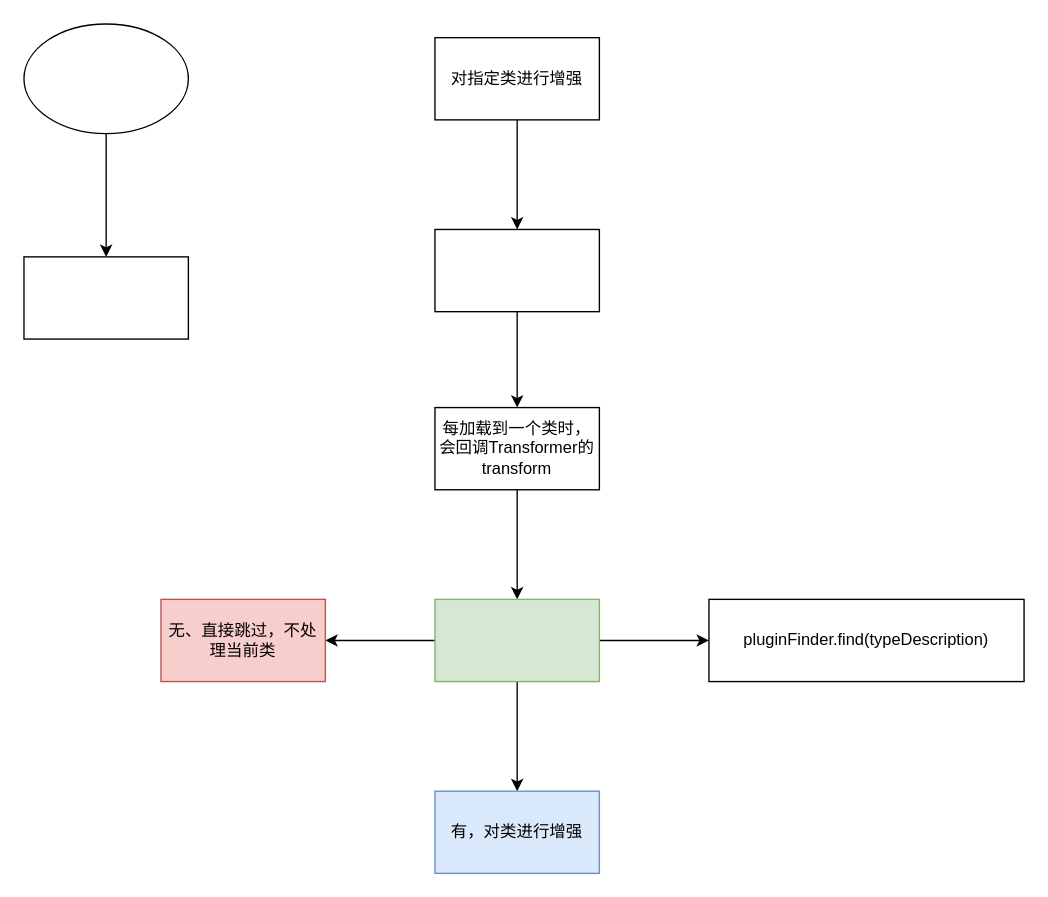
This 1048x897 diagram has some shape labels left out. Here are the shapes that lost their labels. From the top down, the centre of each, then its label:
At point (105, 78): "安装插件 即增强类".
At point (516, 270): "给bytebuddy指定类增强插件： Transformer".
At point (516, 640): "判断针对当前读取的类是否有增强的插件？".
